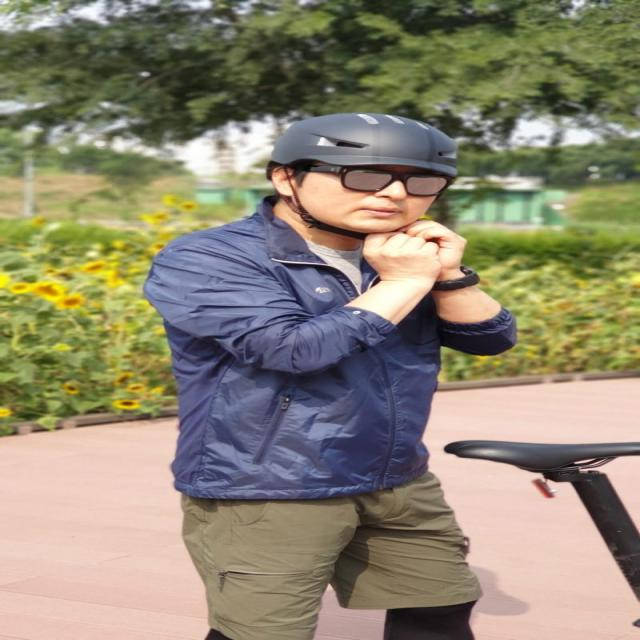Helmet: (257, 113, 466, 234)
